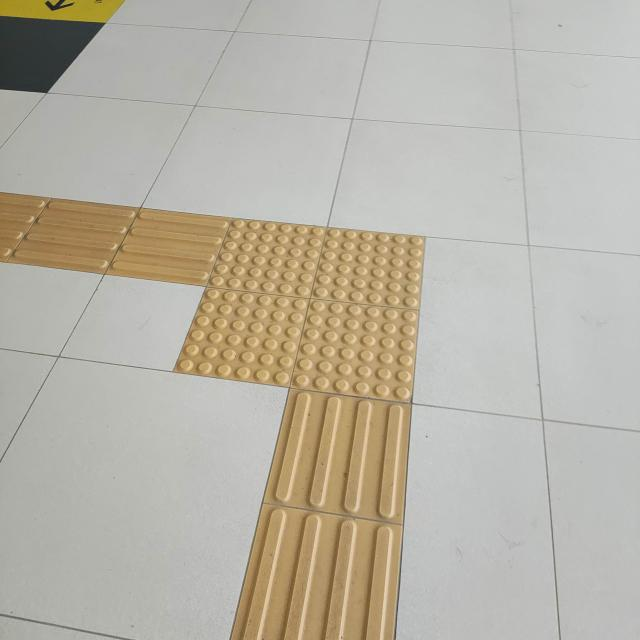kiri: (39, 157, 484, 508)
